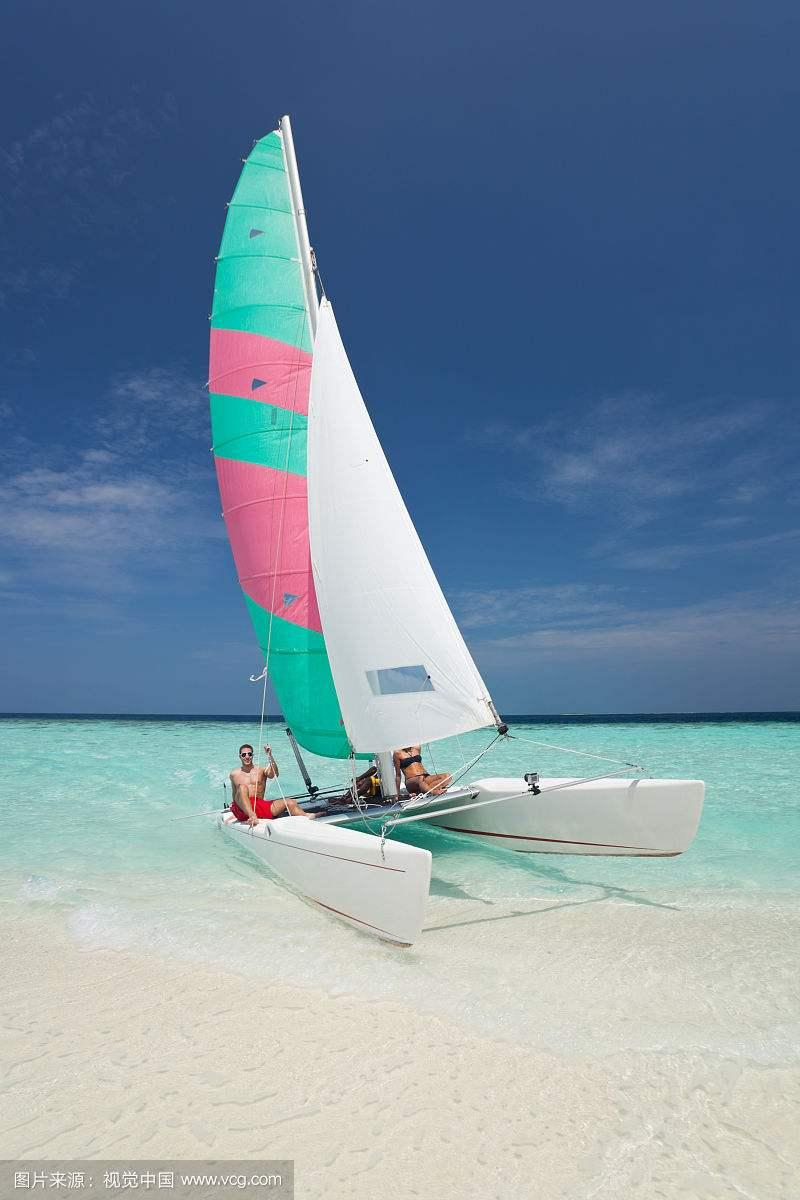fanchuan: (210, 90, 710, 945)
